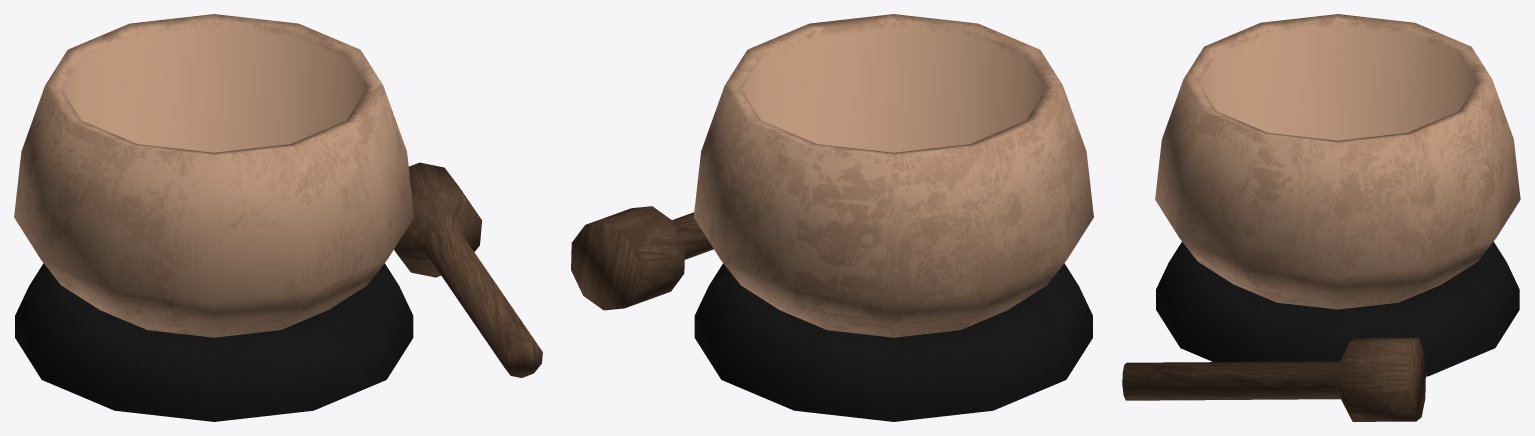
Rendered from Instruments_01.fbx.
The picture shows the model from 3 angles, left to right: view 1: azimuth 30°, elevation 25°; view 2: azimuth 150°, elevation 25°; view 3: azimuth 270°, elevation 25°; orthographic projection. The views are drawn at different scales.
Visible parts, largest first — view 1: Instruments_01; view 2: Instruments_01; view 3: Instruments_01.
Part boxes in pixels (left/top/right/bottom): Instruments_01: left=14, top=14, right=542, bottom=421; Instruments_01: left=571, top=14, right=1093, bottom=421; Instruments_01: left=1122, top=14, right=1520, bottom=421.
Bounding box in the file's own units: 29.79 × 16.02 × 24.64.
Materials: 1 (1 with a texture image).
